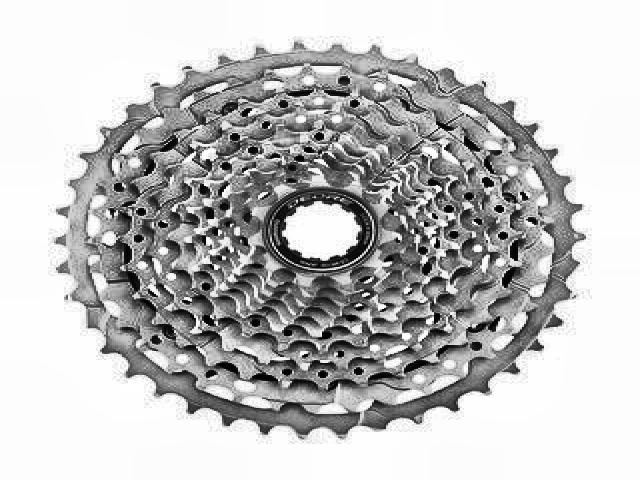cassette: (49, 39, 585, 441)
